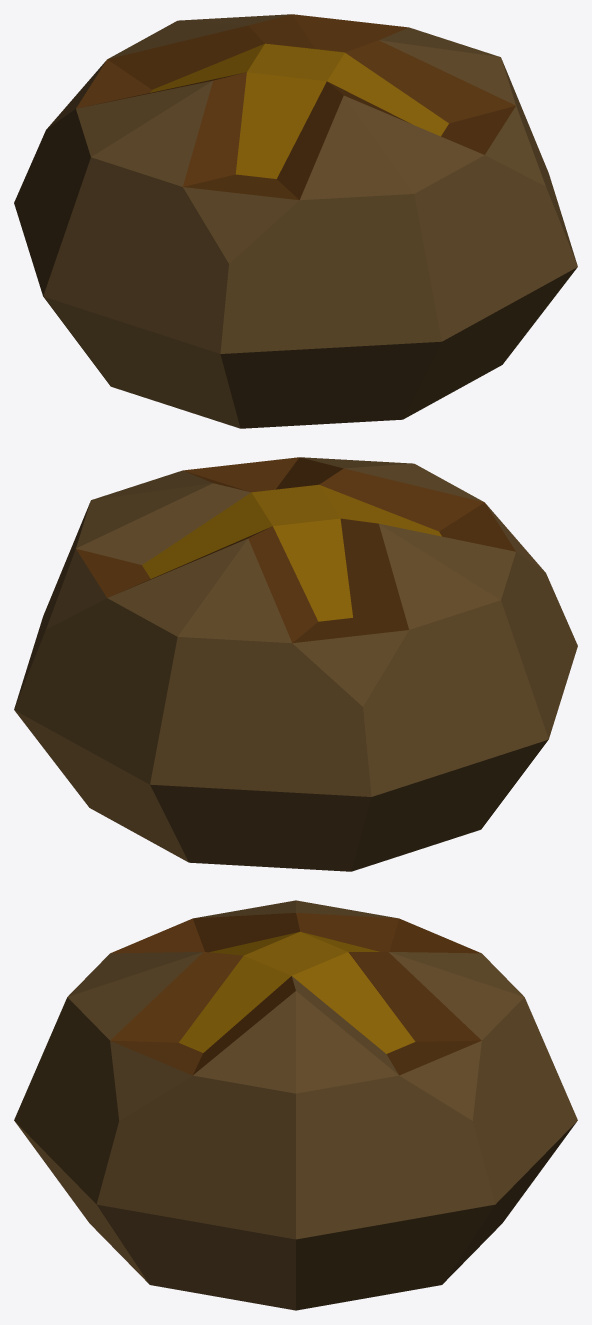
The model's file is food_roll.fbx.
The picture shows the model from 3 angles, top to bottom: view 1: azimuth 30°, elevation 25°; view 2: azimuth 150°, elevation 25°; view 3: azimuth 270°, elevation 25°; orthographic projection. The views are drawn at different scales.
Parts seen in each view (by area): view 1: pCylinder3; view 2: pCylinder3; view 3: pCylinder3.
Part boxes in pixels (bbox=[...]): pCylinder3: bbox=[14, 14, 577, 428]; pCylinder3: bbox=[14, 457, 577, 871]; pCylinder3: bbox=[14, 900, 577, 1310].
Size of the model in its own units: 65.79 by 42.97 by 65.79.
1 material, 1 textured.
